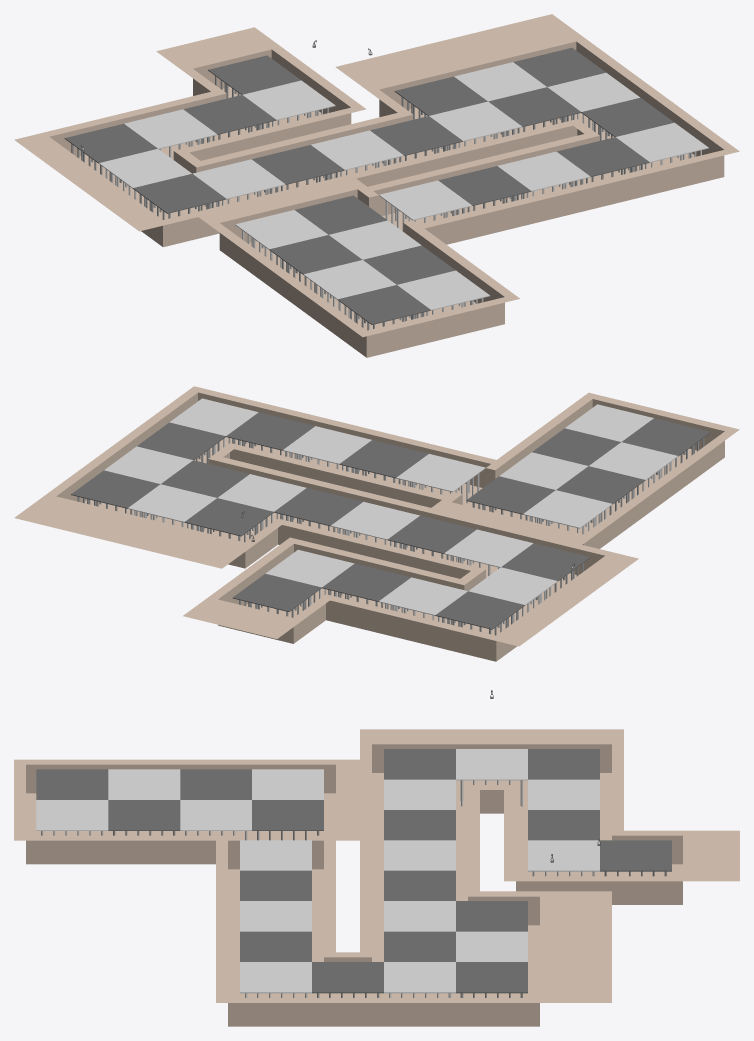
The model's file is Esgoto_Chao.fbx.
3 renders of one model, top to bottom at view 1: azimuth 30°, elevation 25°; view 2: azimuth 150°, elevation 25°; view 3: azimuth 270°, elevation 25°, orthographic. The views are drawn at different scales.
Visible parts, largest first — view 1: polySurface128, polySurface174, polySurface161, polySurface182, polySurface159, polySurface180, polySurface185, polySurface160, polySurface167, polySurface168, polySurface163, polySurface166 (+20 smaller); view 2: polySurface128, polySurface174, polySurface159, polySurface180, polySurface175, polySurface155, polySurface185, polySurface181, polySurface161, polySurface172, polySurface158, polySurface160 (+20 smaller); view 3: polySurface128, polySurface160, polySurface155, polySurface165, polySurface177, polySurface156, polySurface169, polySurface170, polySurface178, polySurface183, polySurface184, polySurface179 (+20 smaller).
Boxes of the visible parts, <box> form: polySurface128: <box>14,14,739,357</box>; polySurface174: <box>379,180,472,231</box>; polySurface161: <box>133,174,226,219</box>; polySurface182: <box>337,285,430,330</box>; polySurface159: <box>64,123,157,182</box>; polySurface180: <box>235,210,327,269</box>; polySurface185: <box>303,260,396,319</box>; polySurface160: <box>99,149,191,207</box>; polySurface167: <box>429,101,522,150</box>; polySurface168: <box>370,116,462,164</box>; polySurface163: <box>252,145,344,193</box>; polySurface166: <box>488,87,581,136</box>; polySurface128: <box>14,386,739,661</box>; polySurface174: <box>396,454,485,504</box>; polySurface159: <box>435,591,524,635</box>; polySurface180: <box>523,490,612,534</box>; polySurface175: <box>184,498,273,542</box>; polySurface155: <box>232,573,321,617</box>; polySurface185: <box>589,442,677,498</box>; polySurface181: <box>556,466,645,522</box>; polySurface161: <box>501,543,590,600</box>; polySurface172: <box>283,426,371,473</box>; polySurface158: <box>378,577,467,624</box>; polySurface160: <box>468,567,557,624</box>; polySurface128: <box>14,729,739,1026</box>; polySurface160: <box>456,749,527,806</box>; polySurface155: <box>600,840,671,876</box>; polySurface165: <box>384,962,455,997</box>; polySurface177: <box>456,962,527,997</box>; polySurface156: <box>528,840,599,876</box>; polySurface169: <box>312,962,383,997</box>; polySurface170: <box>240,962,311,997</box>; polySurface178: <box>252,800,323,840</box>; polySurface183: <box>36,800,108,835</box>; polySurface184: <box>108,800,180,835</box>; polySurface179: <box>180,800,251,840</box>.
Bounding box in the file's own units: 5400 × 667 × 6054.
